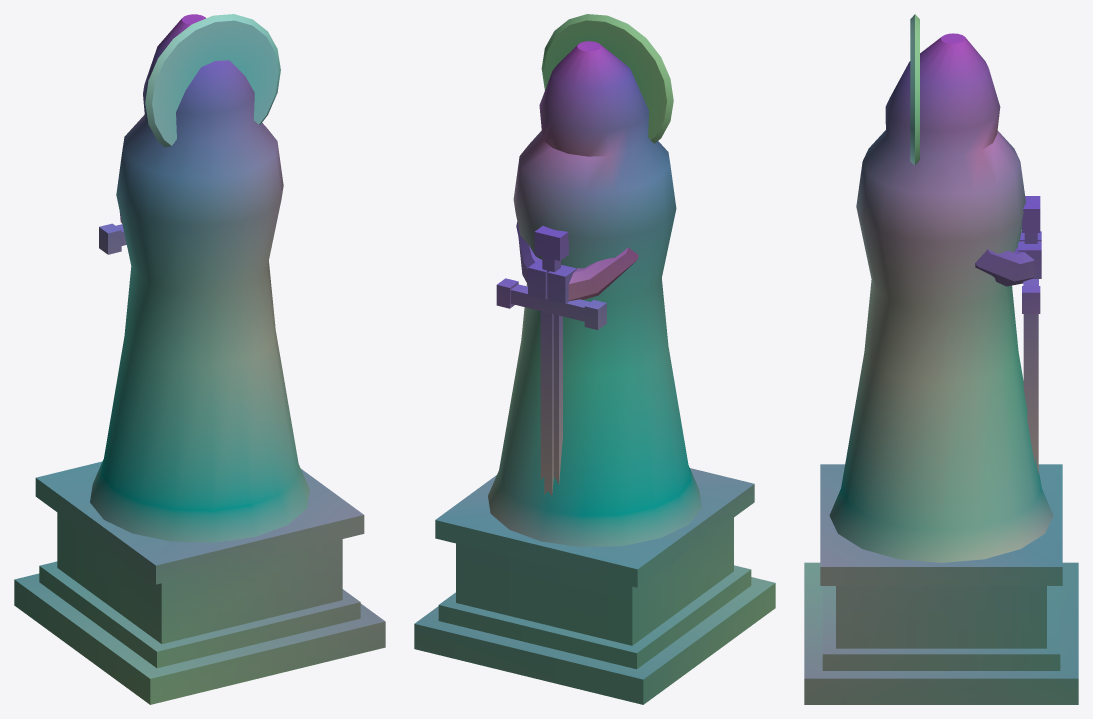
File: statue_saint.glb
3 renders of one model, left to right at view 1: azimuth 30°, elevation 25°; view 2: azimuth 150°, elevation 25°; view 3: azimuth 270°, elevation 25°, orthographic. The views are drawn at different scales.
Parts seen in each view (by area): view 1: saint, plinth, saint_halo, saint_sword; view 2: saint, plinth, saint_sword, saint_halo, saint_sleeve_-1; view 3: saint, plinth, saint_sword, saint_sleeve_1, saint_halo.
Part boxes in pixels (x1,y1,x2,y2): saint: (90,14,309,542); plinth: (14,461,385,704); saint_halo: (145,14,280,147); saint_sword: (99,223,126,254); saint: (488,41,701,547); plinth: (414,468,775,704); saint_sword: (496,226,606,496); saint_halo: (541,14,673,143); saint_sleeve_-1: (568,247,638,300); saint: (829,33,1053,562); plinth: (804,464,1078,704); saint_sword: (1018,196,1041,475); saint_sleeve_1: (975,247,1034,286); saint_halo: (910,14,919,165).
Bounding box in the file's own units: 1.04 × 2.62 × 1.04.
